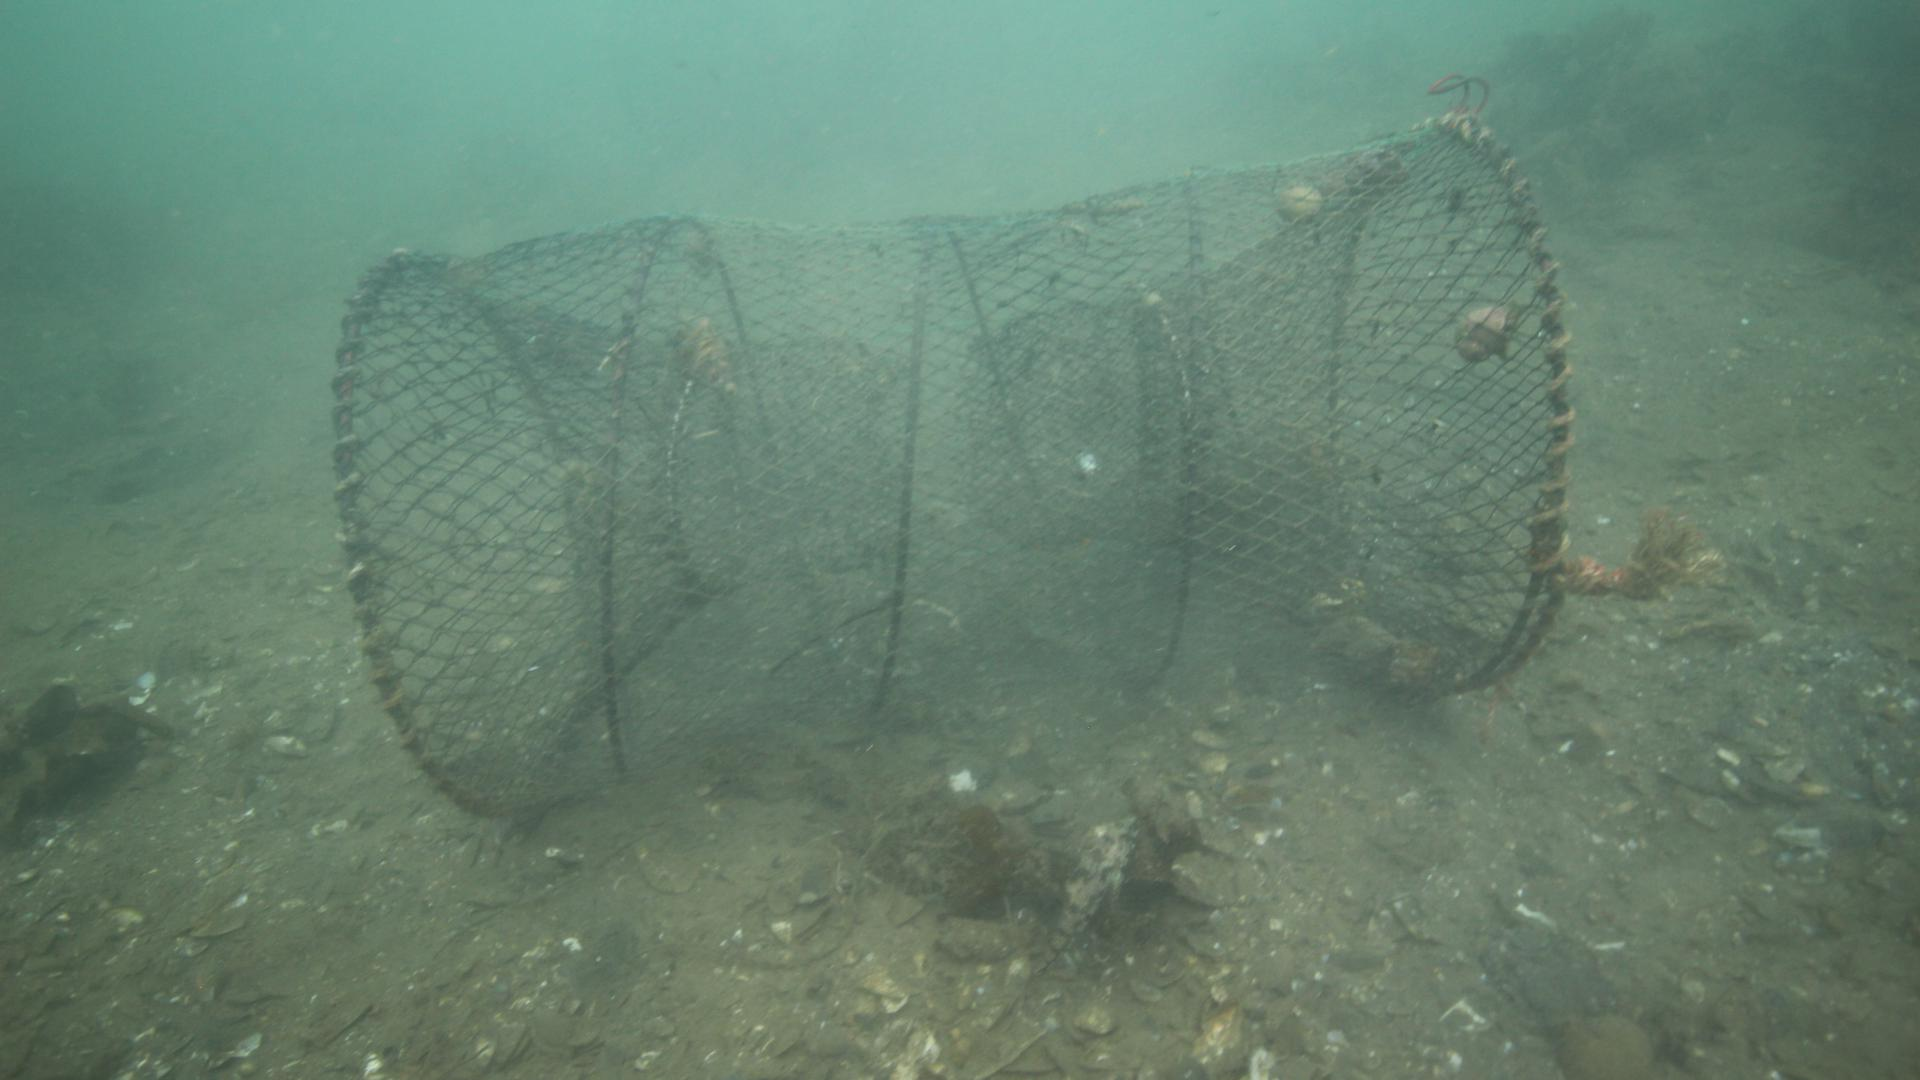spring fish trap: (328, 115, 1577, 833)
